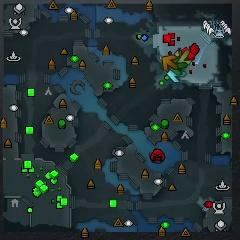x2: (174, 49, 191, 64)
x3: (167, 69, 186, 83)
x4: (168, 57, 188, 74)
x5: (162, 55, 178, 71)
